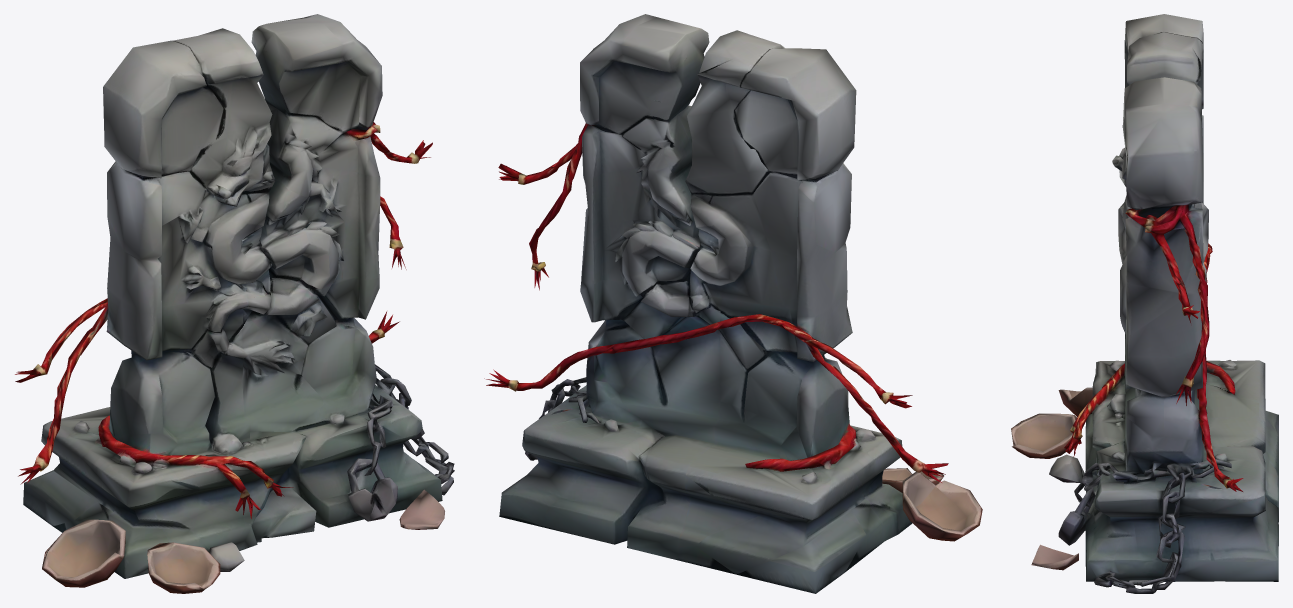
File: ss_suipo.glb
3 renders of one model, left to right at view 1: azimuth 30°, elevation 25°; view 2: azimuth 150°, elevation 25°; view 3: azimuth 270°, elevation 25°, orthographic. The views are drawn at different scales.
Visible parts, largest first — view 1: tripo_node_e1989ae4-e318-474e-82bd-88681921163b; view 2: tripo_node_e1989ae4-e318-474e-82bd-88681921163b; view 3: tripo_node_e1989ae4-e318-474e-82bd-88681921163b.
Part boxes in pixels (x1,y1,x2,y2): tripo_node_e1989ae4-e318-474e-82bd-88681921163b: [15, 14, 454, 593]; tripo_node_e1989ae4-e318-474e-82bd-88681921163b: [484, 14, 982, 593]; tripo_node_e1989ae4-e318-474e-82bd-88681921163b: [1011, 14, 1278, 593].
Size of the model in its own units: 0.9329 by 0.9871 by 0.5269.
1 material, 1 textured.
